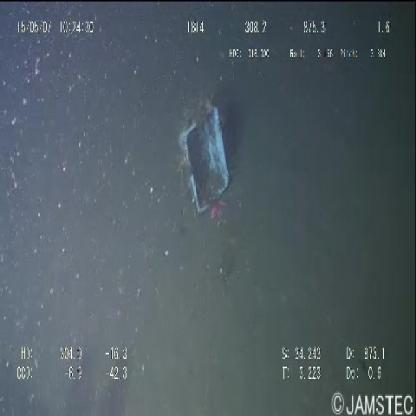Rác: (172, 91, 236, 225)
